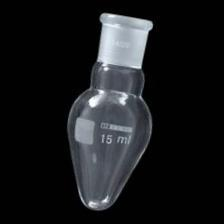Pear shaped flask: (46, 10, 165, 210)
